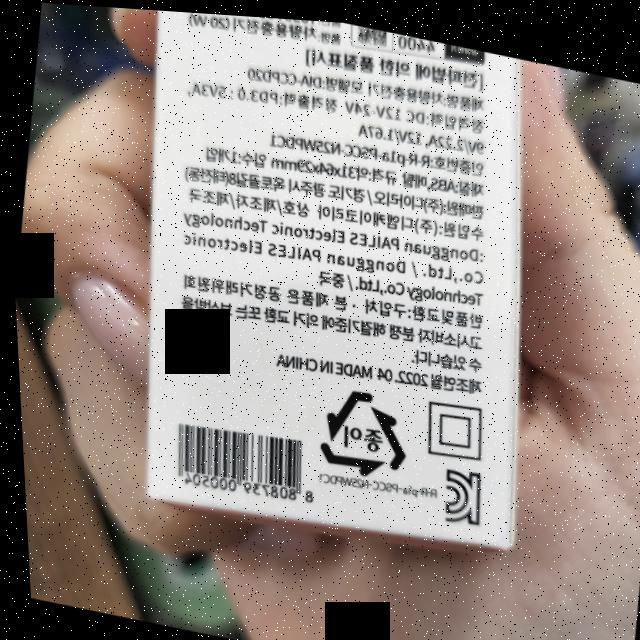Paper: (308, 376, 412, 482)
